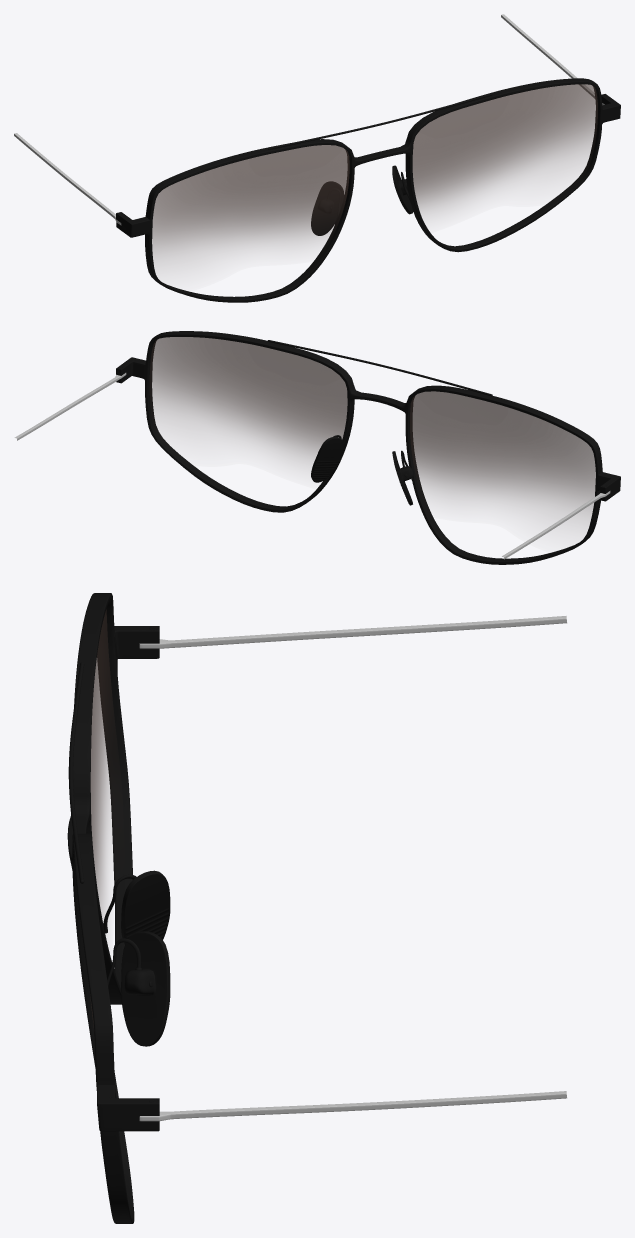
The picture shows the model from 3 angles, top to bottom: view 1: azimuth 30°, elevation 25°; view 2: azimuth 150°, elevation 25°; view 3: azimuth 270°, elevation 25°; orthographic projection. The views are drawn at different scales.
Parts seen in each view (by area): view 1: frame, temple_left, temple_right; view 2: frame, temple_right, temple_left; view 3: frame, temple_right, temple_left.
Part boxes in pixels (left/top/right/bottom): frame: left=116, top=78, right=620, bottom=302; temple_left: left=14, top=133, right=121, bottom=225; temple_right: left=501, top=14, right=604, bottom=105; frame: left=116, top=331, right=620, bottom=564; temple_right: left=14, top=373, right=126, bottom=440; temple_left: left=502, top=491, right=610, bottom=559; frame: left=67, top=593, right=170, bottom=1223; temple_right: left=139, top=1091, right=566, bottom=1121; temple_left: left=139, top=616, right=566, bottom=648.
Bounding box in the file's own units: 0.1454 × 0.0453 × 0.0642.
3 materials, 2 textured.
